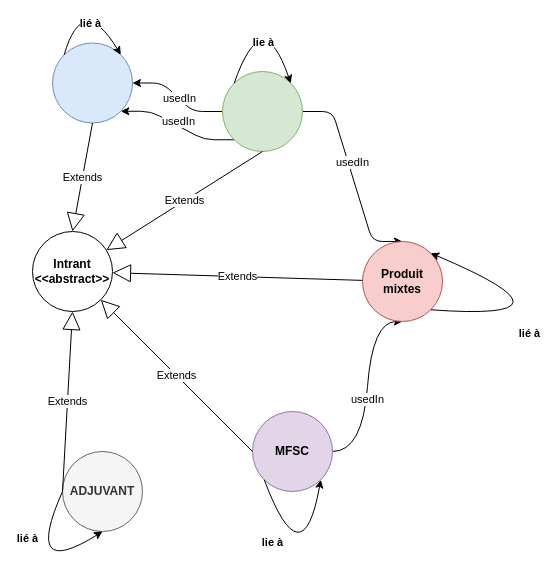
The diagram is 558 pixels wide and 569 high, and some of its shapes have lost their labels. Here are the shapes that lost their labels. From the top down, the box of each, then its label:
(52, 42, 132, 123): Mélanges
(222, 70, 302, 152): PPP
